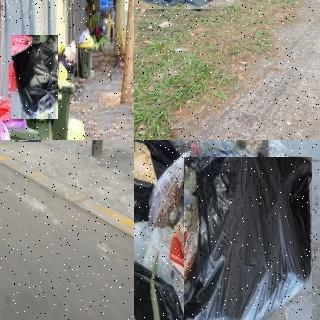Garbage: (184, 157, 312, 320), (11, 35, 58, 119)
